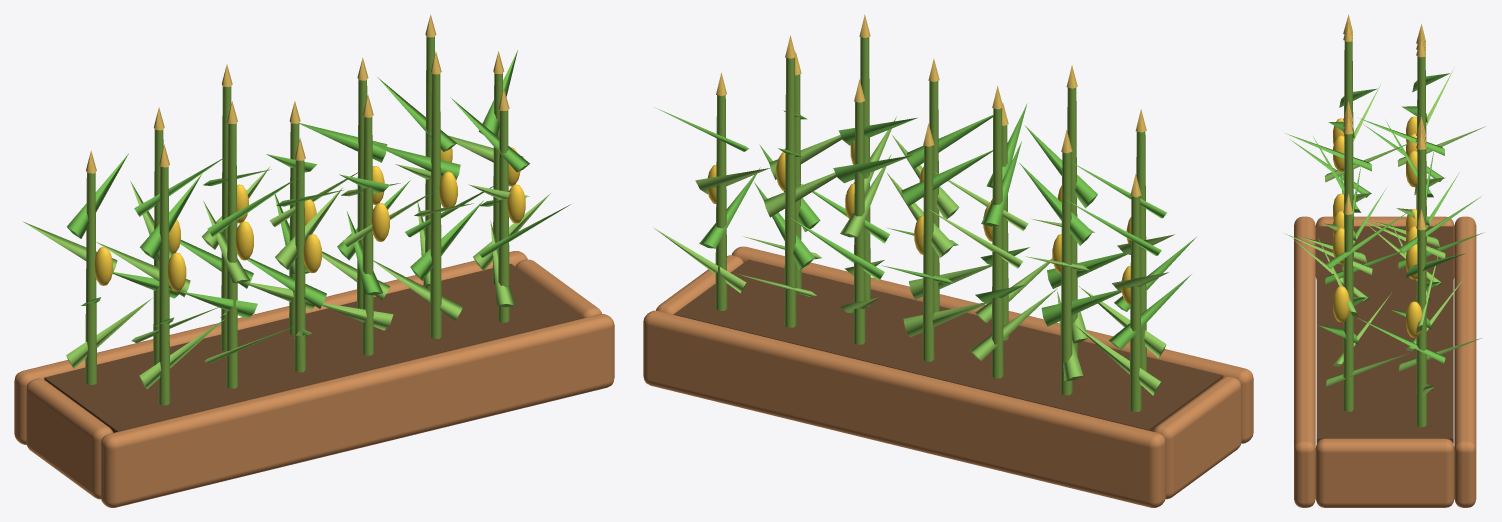
File: vegbed-corn.glb
3 renders of one model, left to right at view 1: azimuth 30°, elevation 25°; view 2: azimuth 150°, elevation 25°; view 3: azimuth 270°, elevation 25°, orthographic. The views are drawn at different scales.
Bounding box in the file's own units: 3.06 × 1.99 × 1.13.
